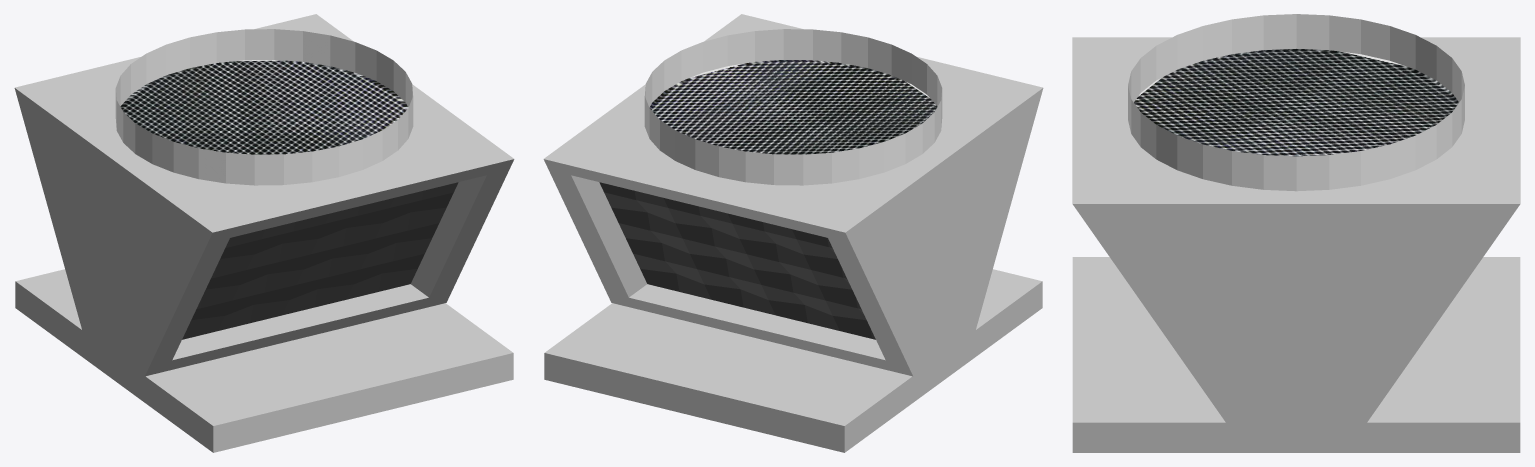
The model's file is heat_pump.glb.
3 views of the same model, side by side, from view 1: azimuth 30°, elevation 25°; view 2: azimuth 150°, elevation 25°; view 3: azimuth 270°, elevation 25° (orthographic). The views are drawn at different scales.
Parts seen in each view (by area): view 1: fenglengrebeng_1_2, Cylinder_1, Cube_0; view 2: fenglengrebeng_1_2, Cylinder_1, Cube_0; view 3: fenglengrebeng_1_2, Cylinder_1, Cube_0.
Part boxes in pixels (<box>): fenglengrebeng_1_2: <box>14,14,514,376</box>; Cylinder_1: <box>115,29,413,185</box>; Cube_0: <box>15,269,513,452</box>; fenglengrebeng_1_2: <box>543,14,1043,376</box>; Cylinder_1: <box>644,29,942,185</box>; Cube_0: <box>544,269,1042,452</box>; fenglengrebeng_1_2: <box>1072,37,1520,422</box>; Cylinder_1: <box>1128,14,1464,191</box>; Cube_0: <box>1072,257,1520,452</box>.
Bounding box in the file's own units: 6.34 × 5.06 × 7.21.
3 materials, 1 textured.
